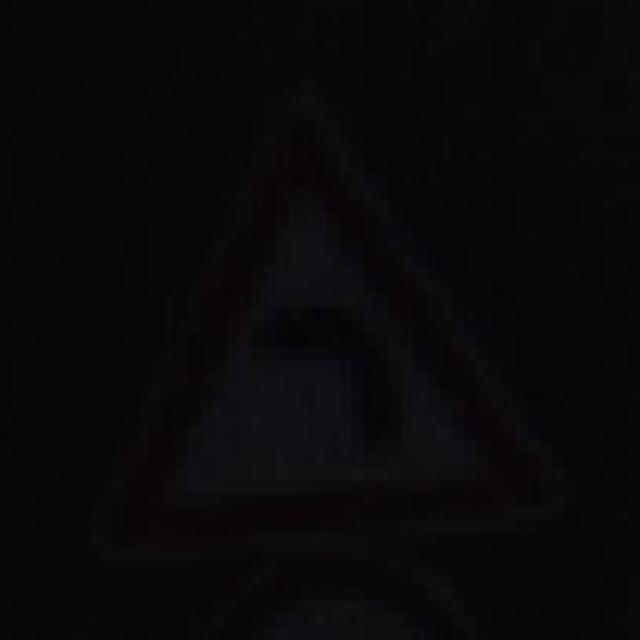Dangerous Left Curve Ahead: (76, 67, 564, 547)
